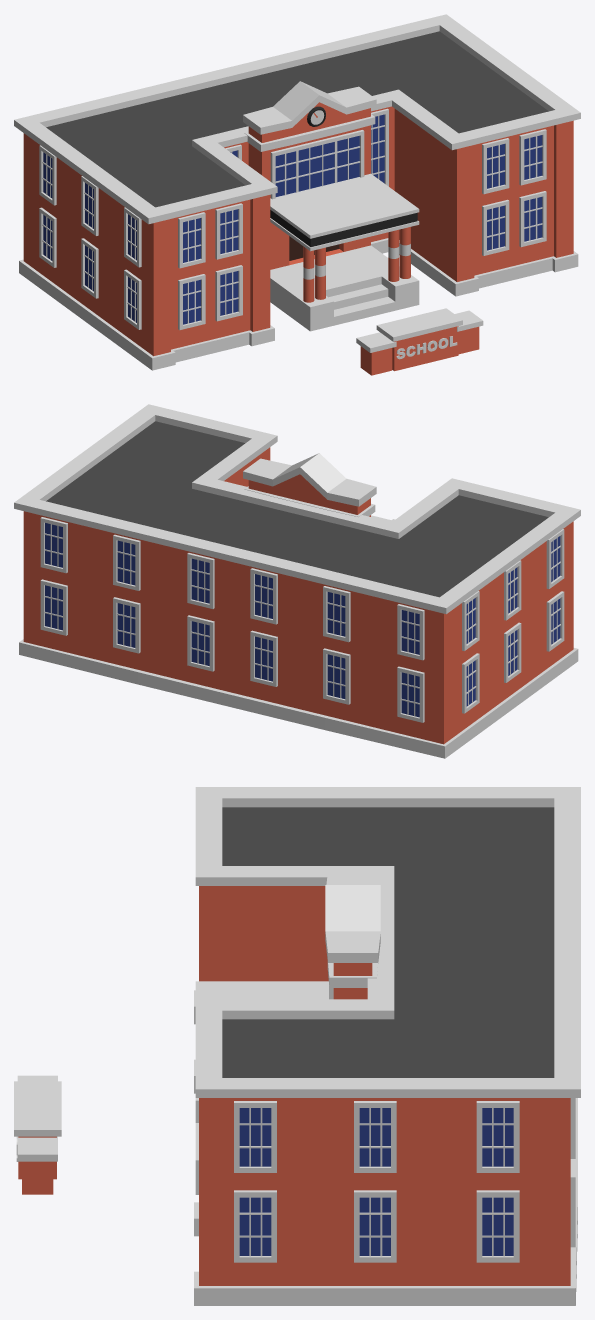
Rendered from School.fbx.
3 renders of one model, top to bottom at view 1: azimuth 30°, elevation 25°; view 2: azimuth 150°, elevation 25°; view 3: azimuth 270°, elevation 25°, orthographic. The views are drawn at different scales.
Visible parts, largest first — view 1: School; view 2: School; view 3: School.
Boxes of the visible parts, x1,y1,x2,y2 form: School: (14, 14, 580, 375); School: (14, 404, 580, 758); School: (14, 787, 580, 1305).
Bounding box in the file's own units: 37.05 × 15.54 × 29.37.
